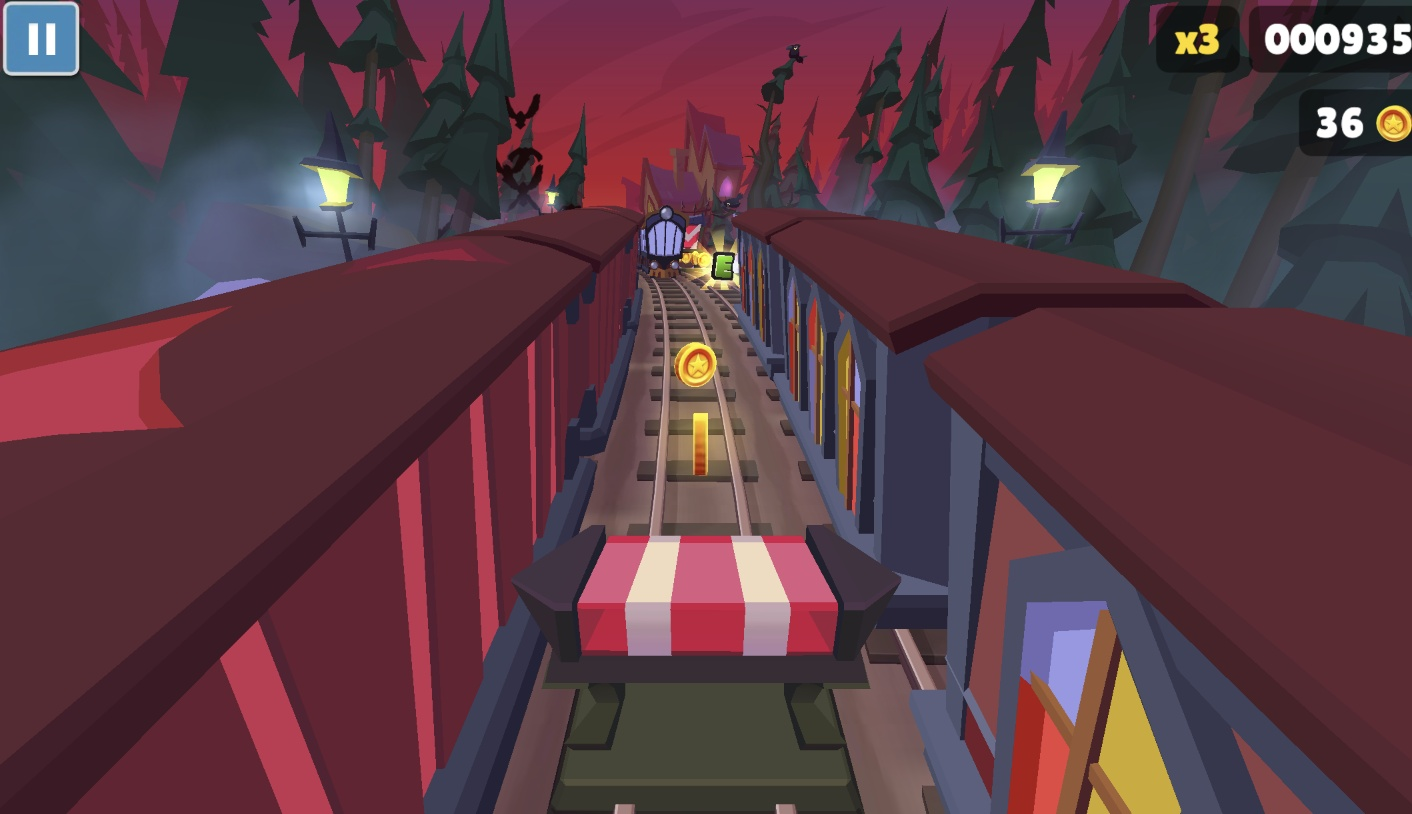ground_barrier: (510, 525, 902, 814)
overhead_barrier: (682, 213, 707, 260)
train: (732, 209, 1412, 814), (0, 205, 646, 814), (637, 206, 689, 277)
